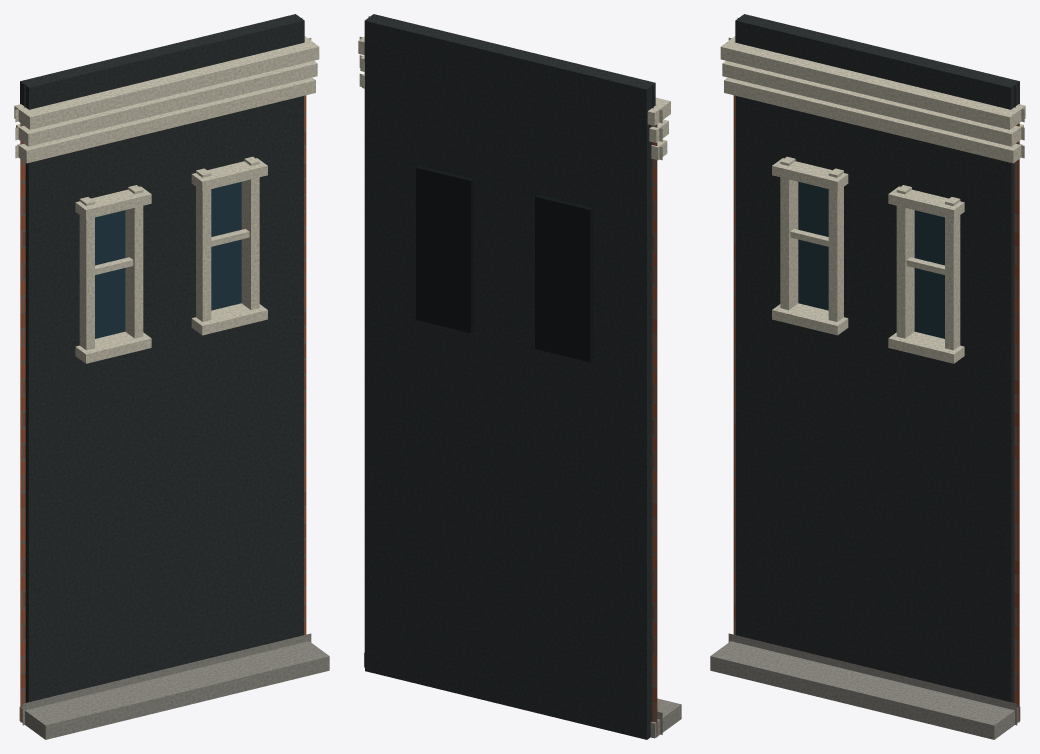
Rendered from WHSE14_lod2.glb.
The picture shows the model from 3 angles, left to right: view 1: azimuth 30°, elevation 25°; view 2: azimuth 150°, elevation 25°; view 3: azimuth 330°, elevation 25°; orthographic projection. The views are drawn at different scales.
Parts seen in each view (by area): view 1: WHSE14_FRONT_LOD2; view 2: WHSE14_FRONT_LOD2; view 3: WHSE14_FRONT_LOD2.
Part boxes in pixels (x1,y1,x2,y2): WHSE14_FRONT_LOD2: (14,14,329,739); WHSE14_FRONT_LOD2: (358,14,681,739); WHSE14_FRONT_LOD2: (710,14,1025,739).
Size of the model in its own units: 3.44 by 7.05 by 0.65.
Materials: 7 (5 with a texture image).
